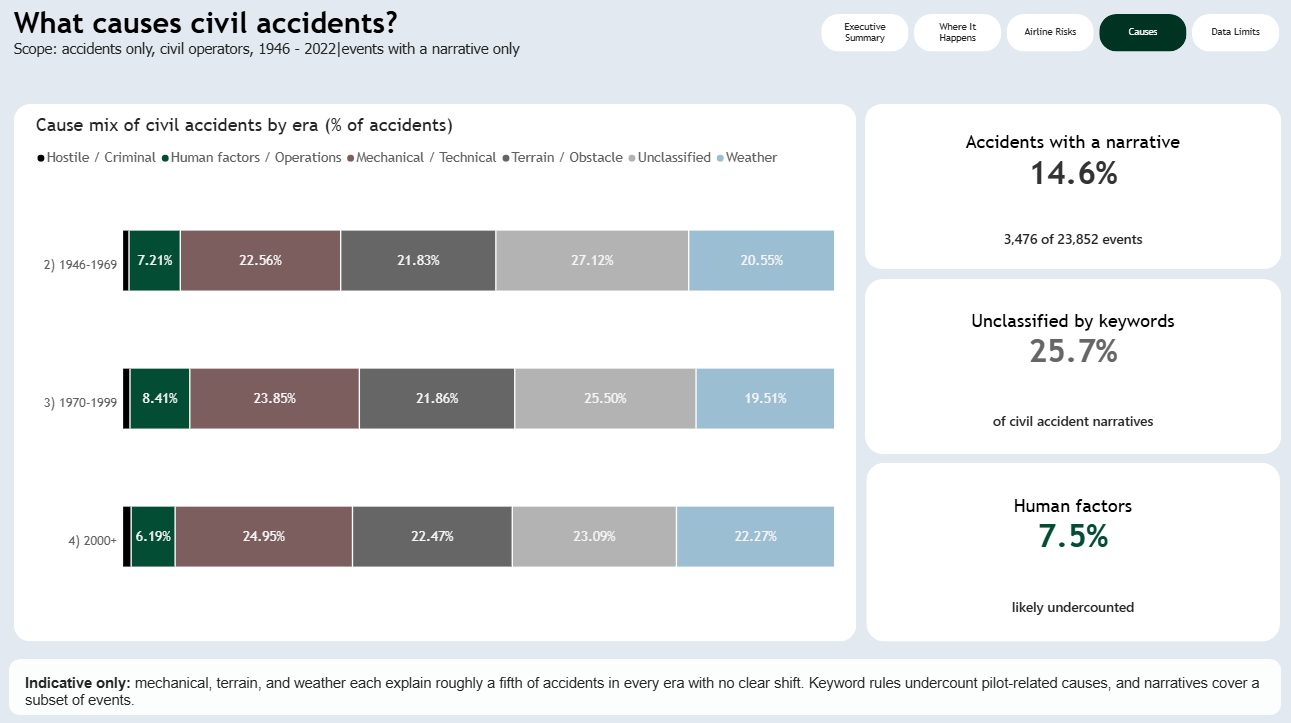

This screenshot's page, from the dashboard's own definition file:
{"tool":"powerbi","page":{"name":"Causes","canvas":[1920,1080],"ordinal":3},"visuals":[{"type":"shape","box":[34.9,161.4,1236.3,788.7],"z":0},{"type":"shape","box":[1283.4,161.4,610.8,242.1],"z":1000},{"type":"shape","box":[1285.2,687.8,607.1,262.3],"z":2000},{"type":"shape","box":[1283.4,417.3,610.8,256.8],"z":3000},{"type":"textbox","box":[34.9,16.5,796.1,119.2],"z":4000},{"type":"hundredPercentStackedBarChart","title":"Cause mix of civil accidents by era (% of accidents)","fields":{"Category":["dw accidents.era"],"Series":["dw accidents.cause_category"],"Y":["Dax Measures.Accidents"]},"box":[51.4,161.4,1203.3,788.7],"z":6000},{"type":"cardVisual","fields":{"Data":["Dax Measures.Narrative Coverage % (All)"]},"box":[1298.6,161.4,581.5,242.1],"z":7000},{"type":"cardVisual","fields":{"Data":["Dax Measures.Unclassified %"]},"box":[1298.6,418.2,581.5,256.8],"z":8000},{"type":"cardVisual","fields":{"Data":["Dax Measures.Human Factors %"]},"box":[1298.6,687.8,581.5,262.3],"z":9000},{"type":"pageNavigator","box":[1219.8,29.3,675,55],"z":10000},{"type":"shape","box":[27.5,975.8,1867.3,82.5],"z":11000},{"type":"textbox","box":[51.4,999.7,1828.7,58.7],"z":12000}]}

Visuals, with their boxes in screenshot pixels (x1, y1, x2, y2), scaled from the page's 1920x1080 canvas onto the 1291x723 screenshot:
shape: {"x1": 23, "y1": 108, "x2": 855, "y2": 636}
shape: {"x1": 863, "y1": 108, "x2": 1274, "y2": 270}
shape: {"x1": 864, "y1": 460, "x2": 1272, "y2": 636}
shape: {"x1": 863, "y1": 279, "x2": 1274, "y2": 451}
textbox: {"x1": 23, "y1": 11, "x2": 559, "y2": 91}
"Cause mix of civil accidents by era (% of accidents)" hundredPercentStackedBarChart: {"x1": 35, "y1": 108, "x2": 844, "y2": 636}
cardVisual - Dax Measures.Narrative Coverage % (All): {"x1": 873, "y1": 108, "x2": 1264, "y2": 270}
cardVisual - Dax Measures.Unclassified %: {"x1": 873, "y1": 280, "x2": 1264, "y2": 452}
cardVisual - Dax Measures.Human Factors %: {"x1": 873, "y1": 460, "x2": 1264, "y2": 636}
pageNavigator: {"x1": 820, "y1": 20, "x2": 1274, "y2": 56}
shape: {"x1": 18, "y1": 653, "x2": 1274, "y2": 708}
textbox: {"x1": 35, "y1": 669, "x2": 1264, "y2": 709}
